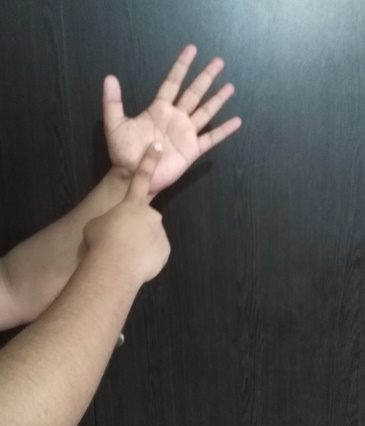oo: (89, 42, 245, 277)
